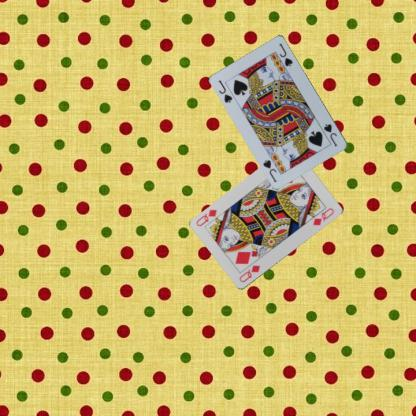Js: (321, 121, 339, 148), (216, 77, 234, 104)
Qd: (236, 263, 261, 284)
